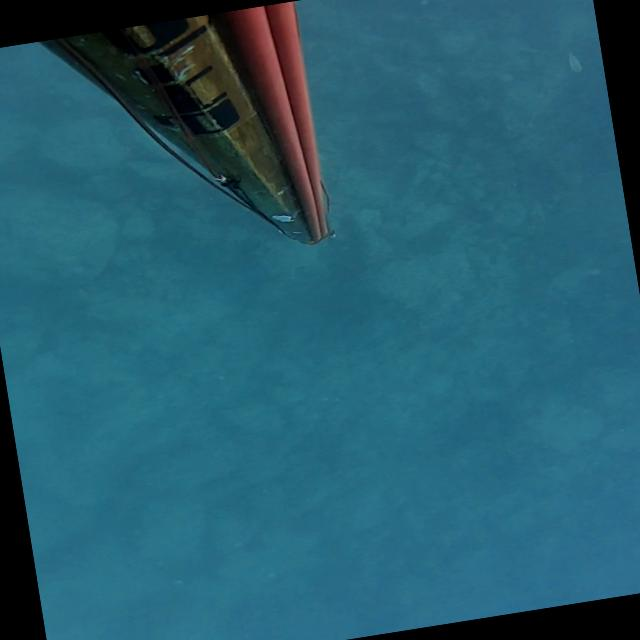Balon Baligi: (567, 48, 583, 72)
